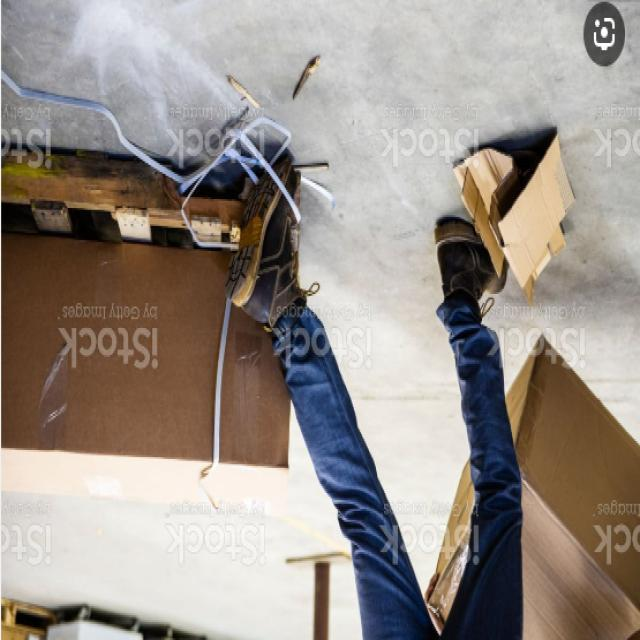shoes: (229, 145, 515, 326)
